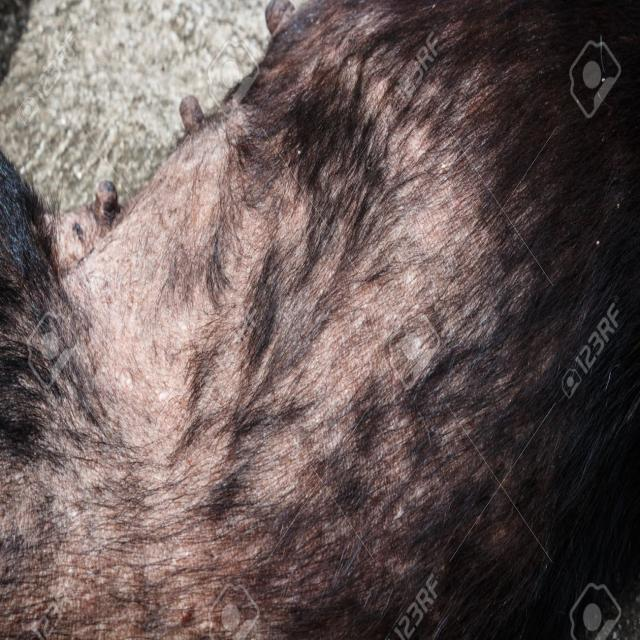mange: (0, 6, 634, 639)
